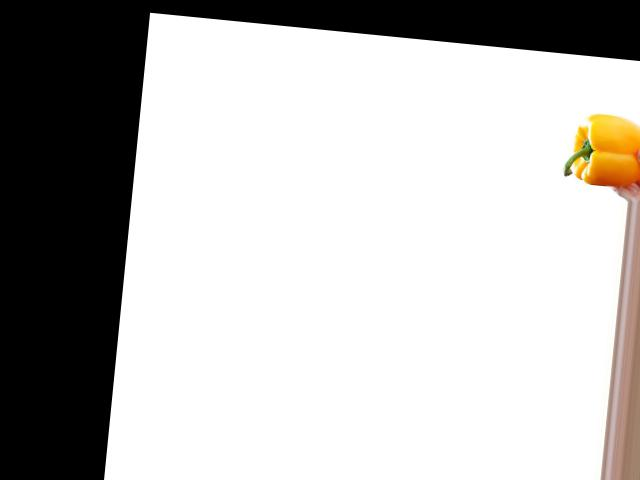bell_pepper: (558, 108, 640, 190)
